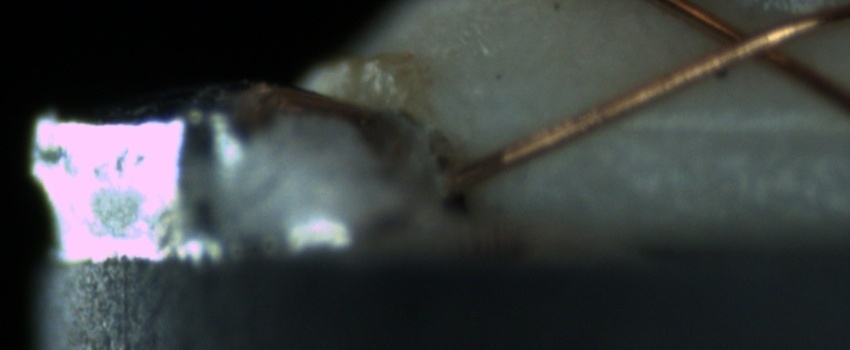CL: (702, 13, 807, 74)
DL: (581, 96, 841, 163)
